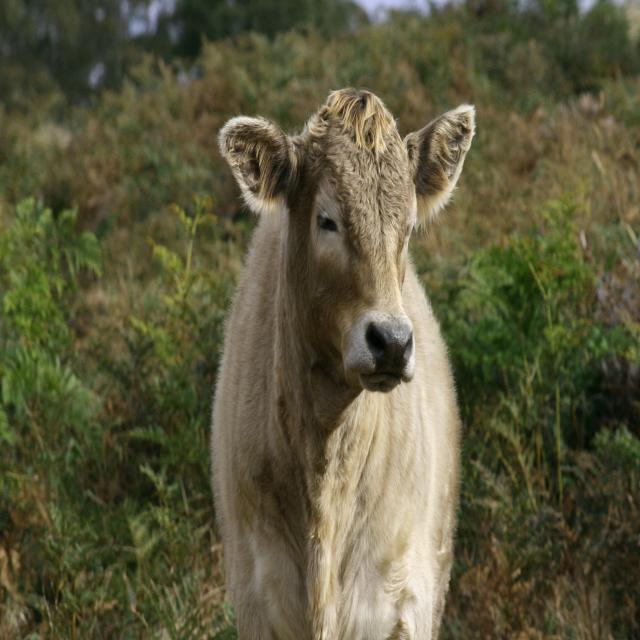cow: (211, 90, 474, 639)
